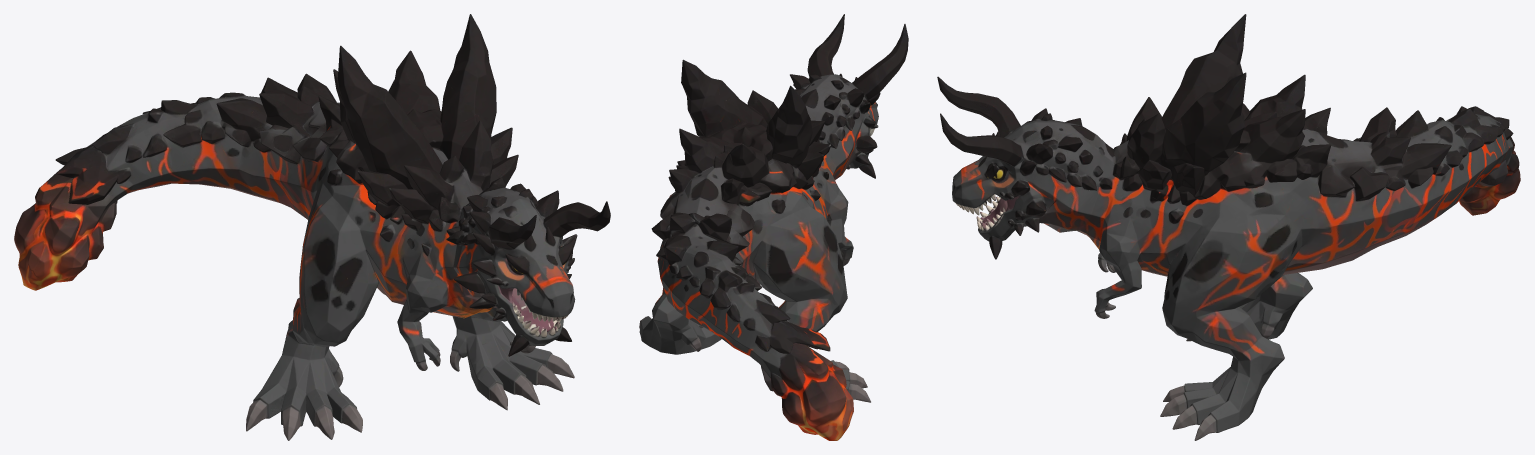
File: meshy_1793054447571.glb
The picture shows the model from 3 angles, left to right: view 1: azimuth 30°, elevation 25°; view 2: azimuth 150°, elevation 25°; view 3: azimuth 270°, elevation 25°; orthographic projection. The views are drawn at different scales.
Size of the model in its own units: 1.39 by 1.2 by 1.9.
1 material, 1 textured.
